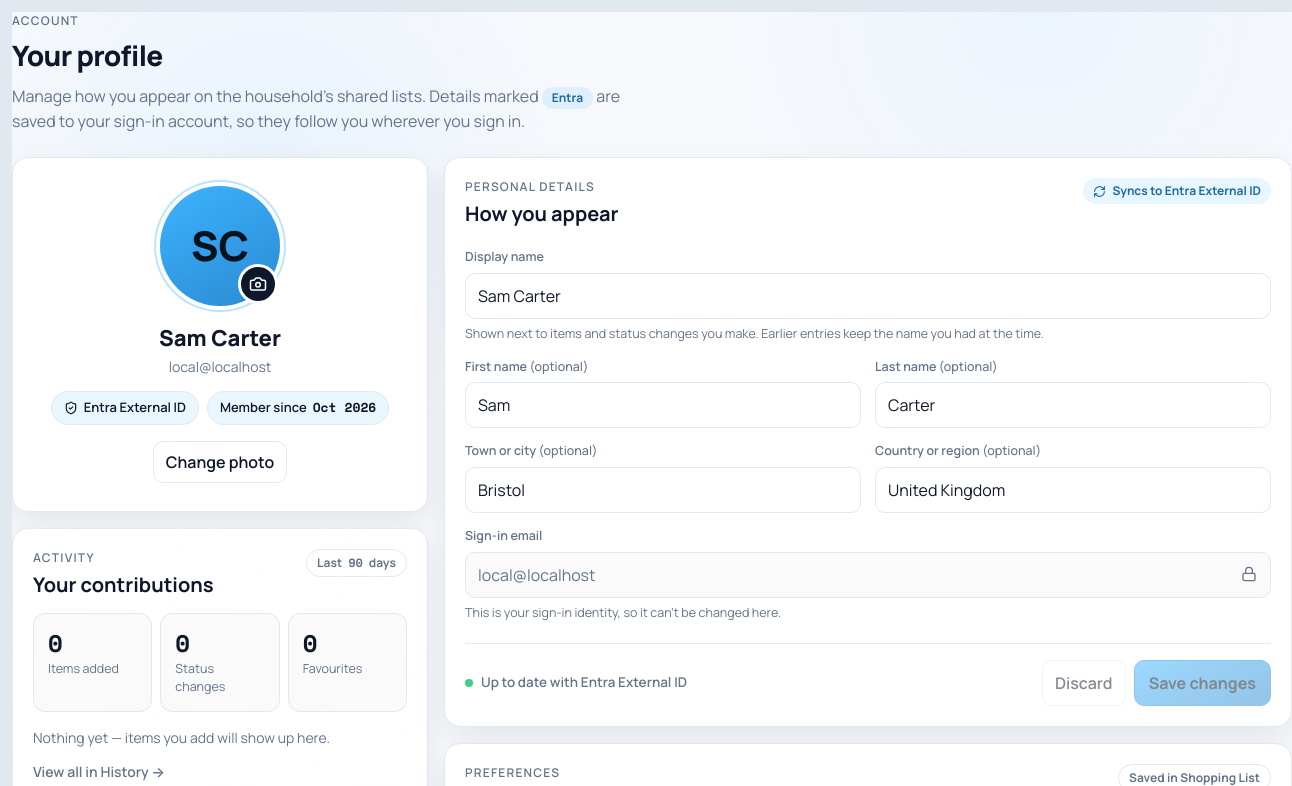
Scenario: ProfilePage › an empty display name blocks saving and explains why
Clear the field labelled "Display name" at (868, 296), box [465,273,1271,319]
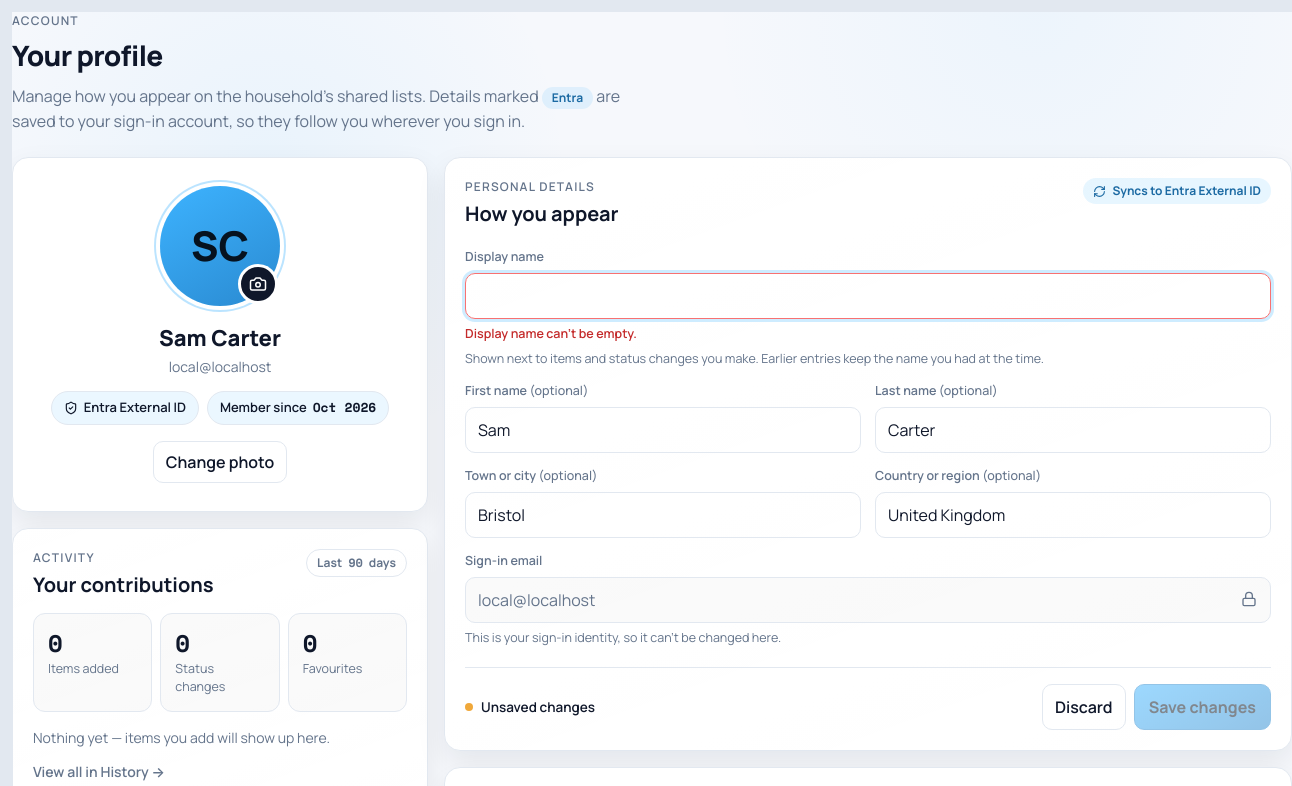
expect the button "Save changes" is disabled: met, box [1134,684,1271,730]
expect the text "Display name can’t be empty." is shown: met, box [465,325,637,342]
